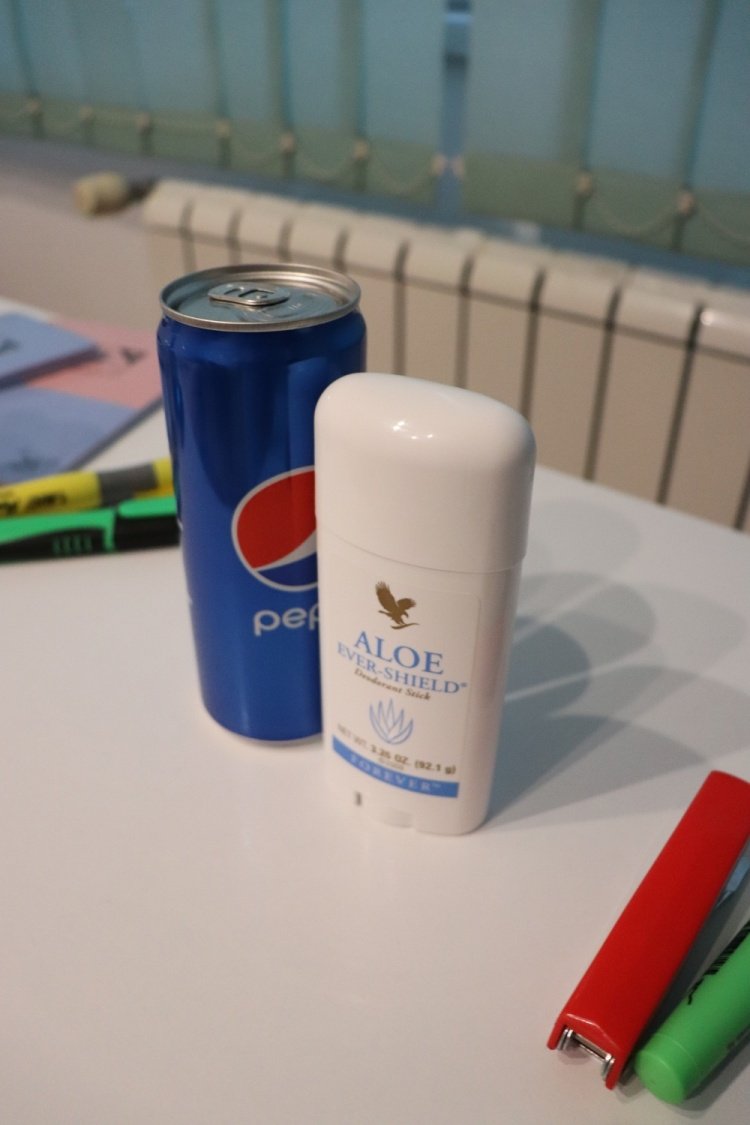pepsi: (154, 259, 322, 755)
